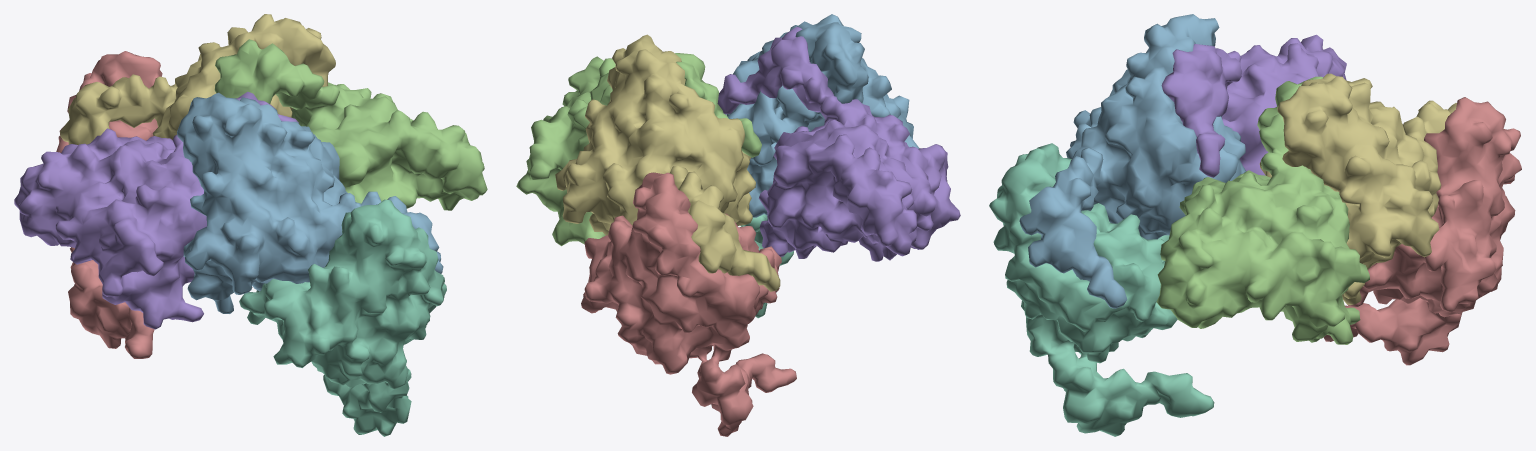
Rendered from helicase.glb.
The picture shows the model from 3 angles, left to right: view 1: azimuth 30°, elevation 25°; view 2: azimuth 150°, elevation 25°; view 3: azimuth 270°, elevation 25°; orthographic projection. The views are drawn at different scales.
Parts seen in each view (by area): view 1: helicase; view 2: helicase; view 3: helicase.
Boxes of the visible parts, x1=… form: helicase: x1=14, y1=14, x2=487, y2=436; helicase: x1=516, y1=14, x2=960, y2=436; helicase: x1=989, y1=14, x2=1521, y2=436.
Size of the model in its own units: 12.55 by 10.03 by 13.28.
